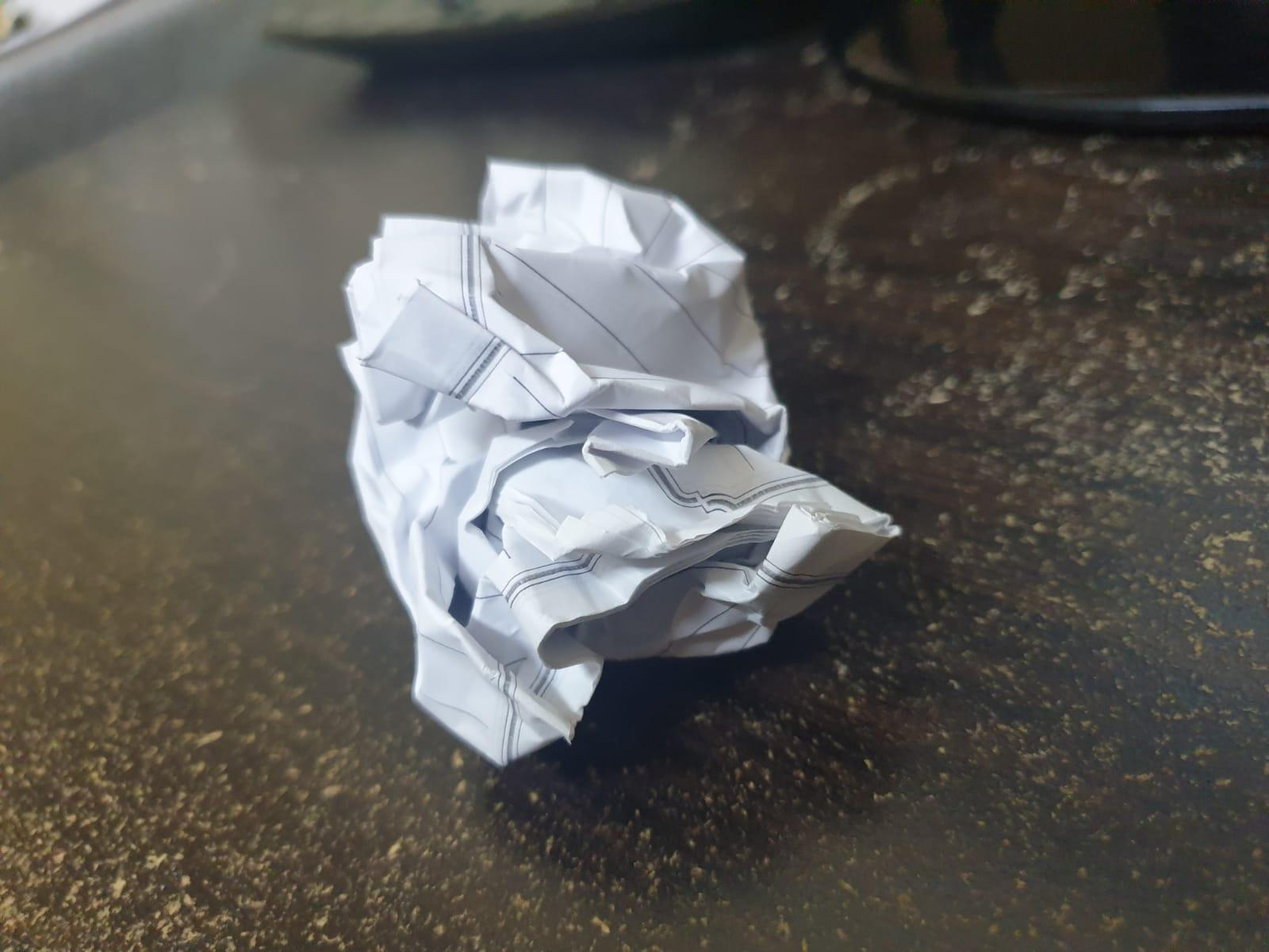paper: (339, 149, 914, 763)
